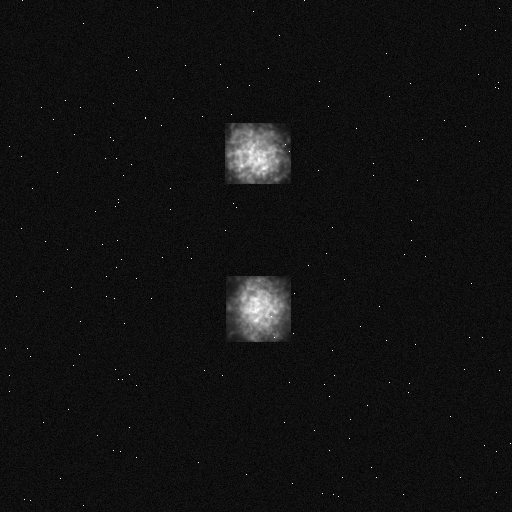lam3: (226, 276, 290, 341), (225, 123, 290, 183)
